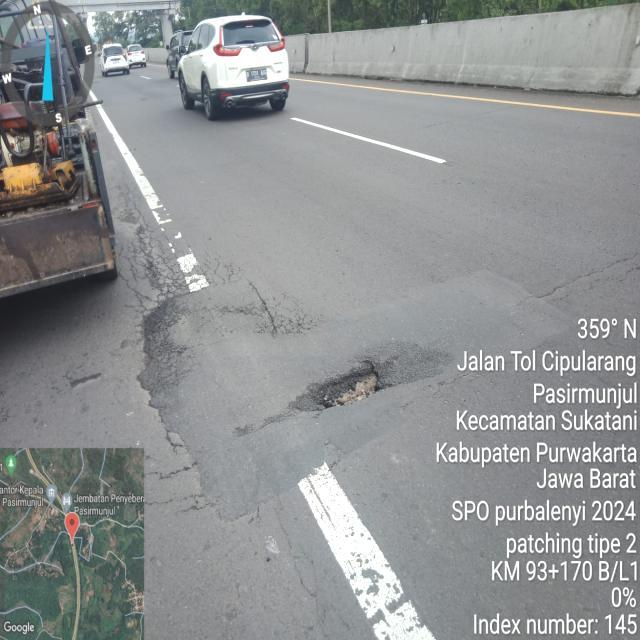Buraco: (309, 358, 386, 413)
